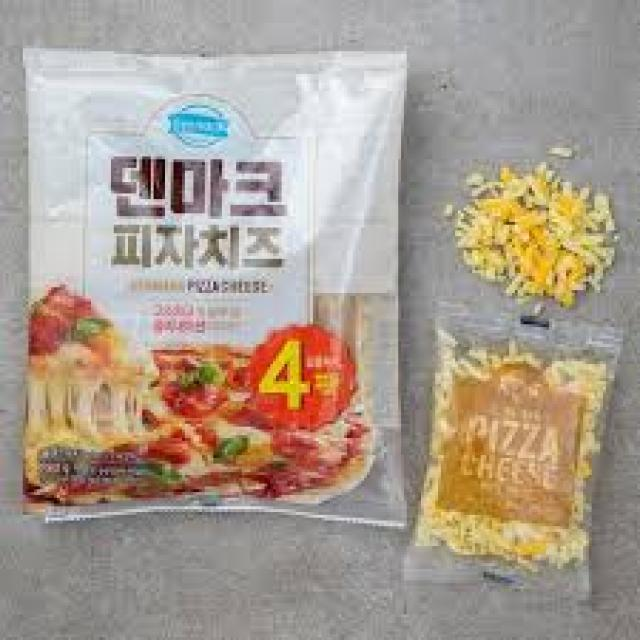Cheese: (421, 322, 589, 578)
